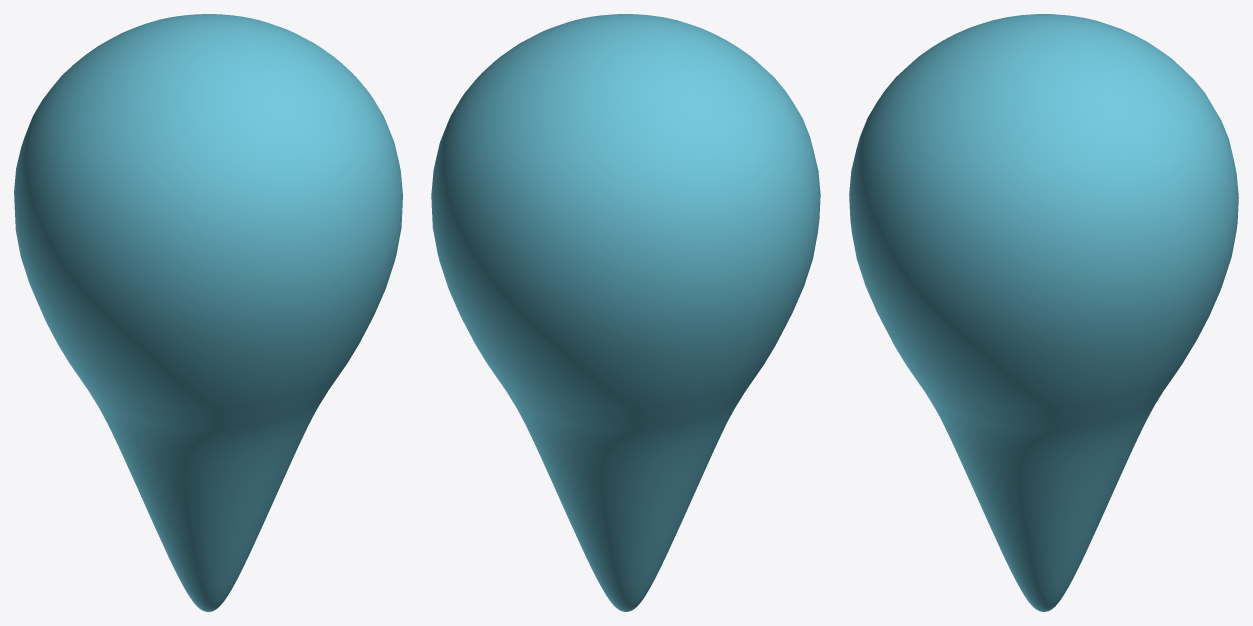
Rendered from anchor.obj.
The picture shows the model from 3 angles, left to right: view 1: azimuth 30°, elevation 25°; view 2: azimuth 150°, elevation 25°; view 3: azimuth 270°, elevation 25°; orthographic projection.
Parts seen in each view (by area): view 1: 본체1; view 2: 본체1; view 3: 본체1.
Part boxes in pixels (left/top/right/bottom): 본체1: left=14, top=14, right=402, bottom=611; 본체1: left=431, top=14, right=820, bottom=611; 본체1: left=849, top=14, right=1238, bottom=611.
Size of the model in its own units: 2.85 by 4.66 by 2.85.
